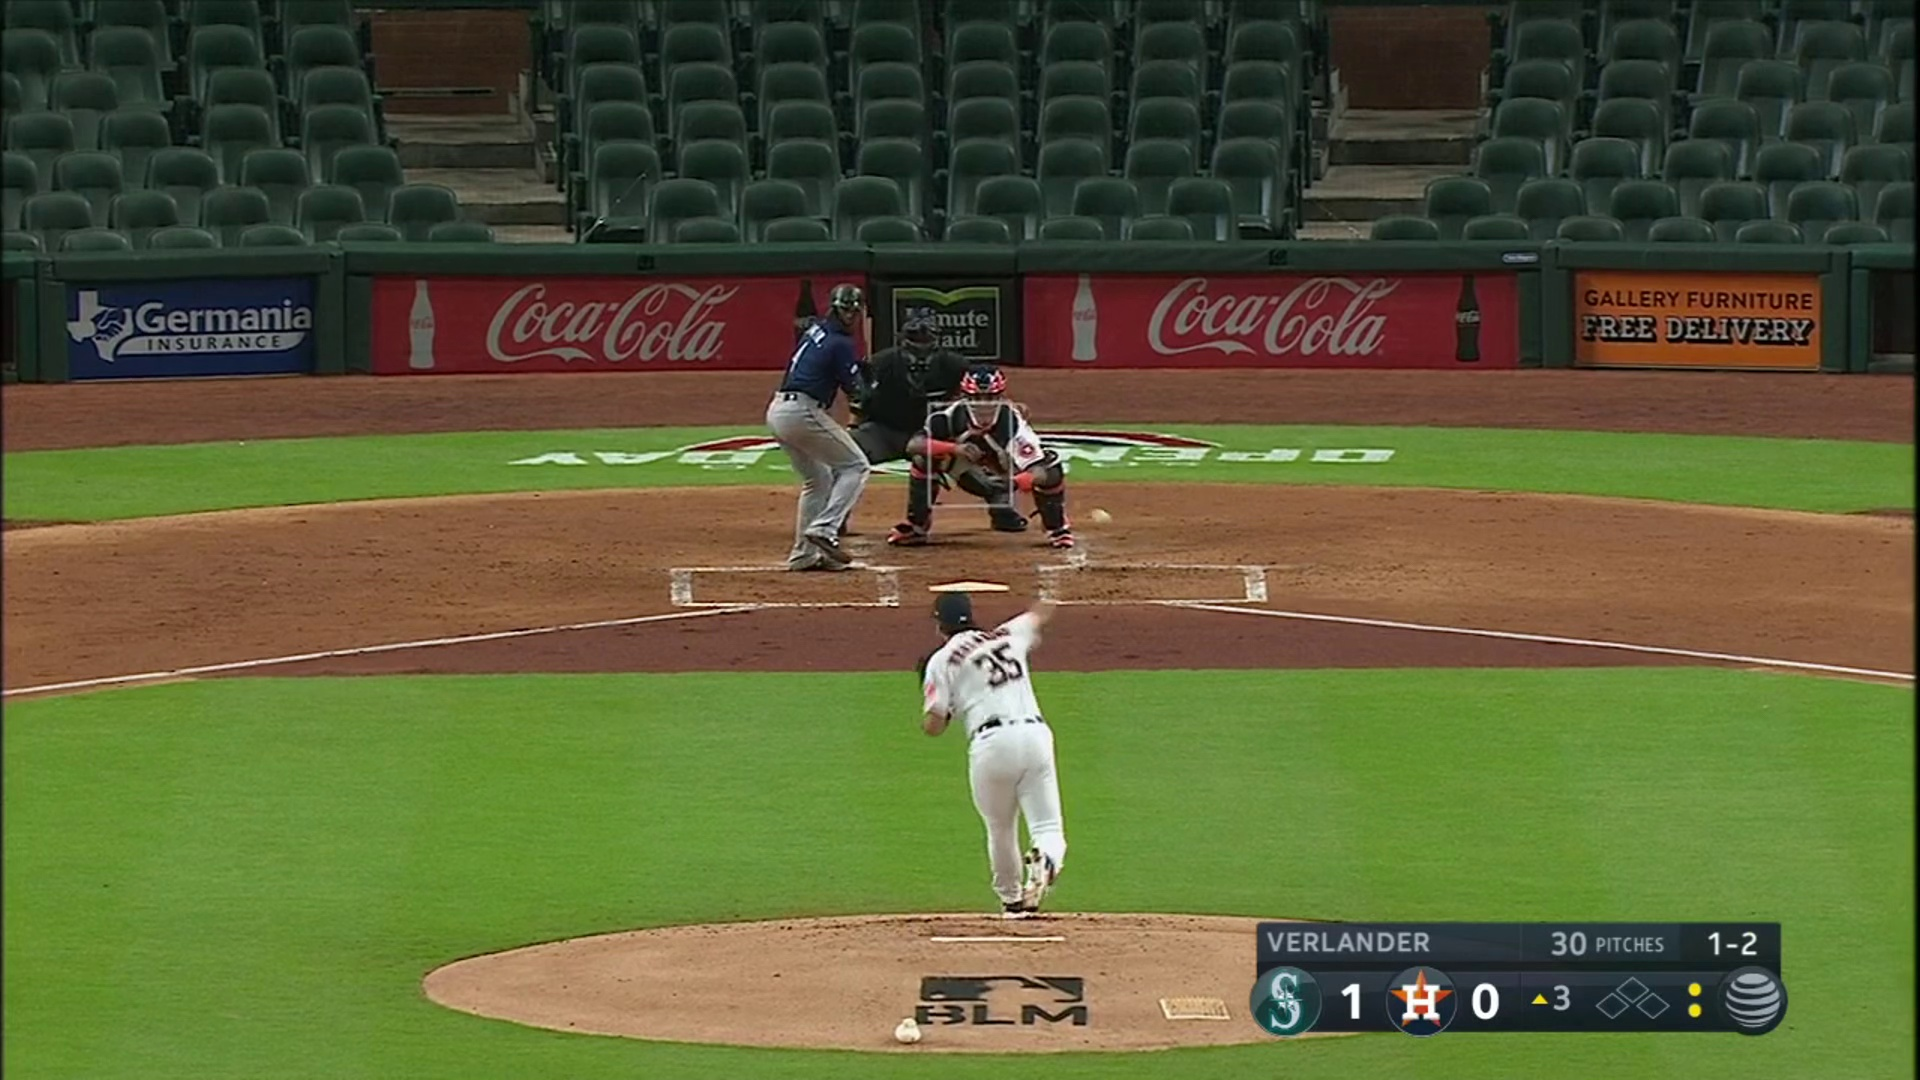baseball: (1091, 508, 1109, 525)
